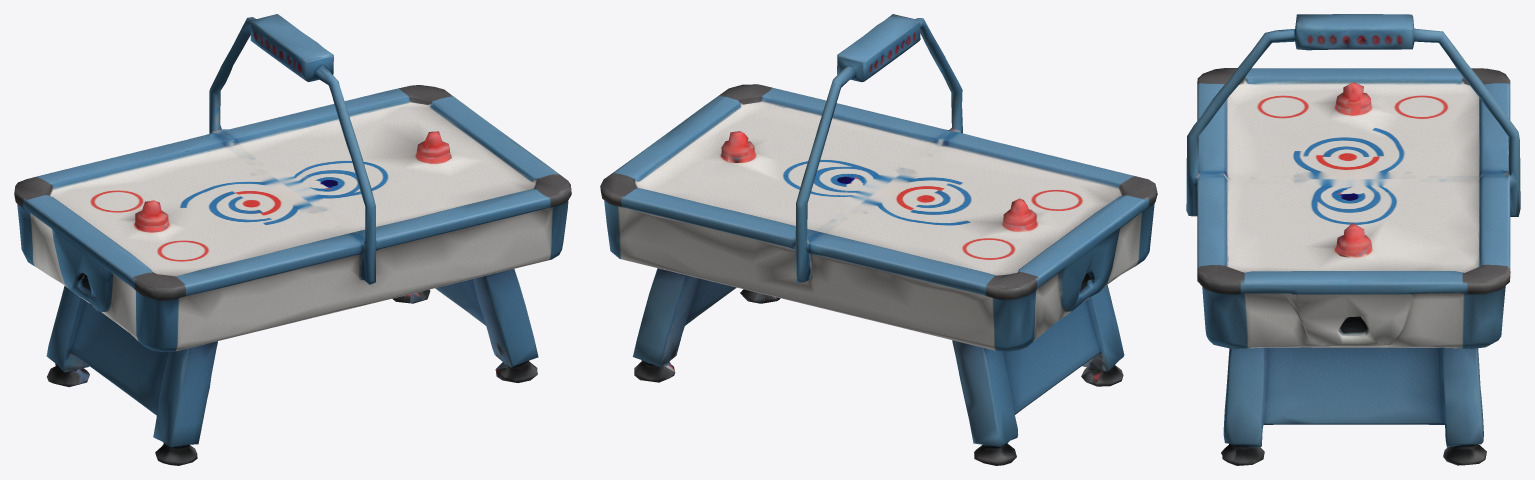
File: Hockey.fbx
3 views of the same model, side by side, from view 1: azimuth 30°, elevation 25°; view 2: azimuth 150°, elevation 25°; view 3: azimuth 270°, elevation 25° (orthographic). The views are drawn at different scales.
Visible parts, largest first — view 1: material_0; view 2: material_0; view 3: material_0.
Part boxes in pixels (bbox=[...]): material_0: bbox=[14, 14, 571, 465]; material_0: bbox=[600, 14, 1157, 465]; material_0: bbox=[1186, 14, 1520, 465].
Size of the model in its own units: 100 by 75.68 by 65.29.
1 material, 1 textured.
